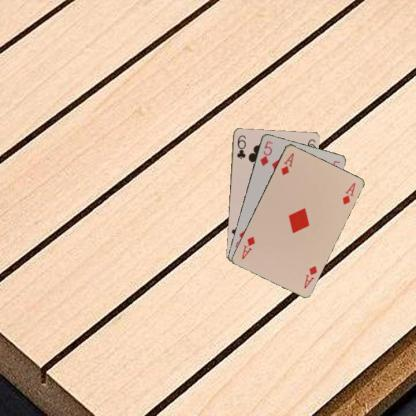5d: (257, 138, 274, 167)
6c: (234, 132, 247, 160)
Ad: (278, 150, 296, 176), (301, 263, 318, 289)
